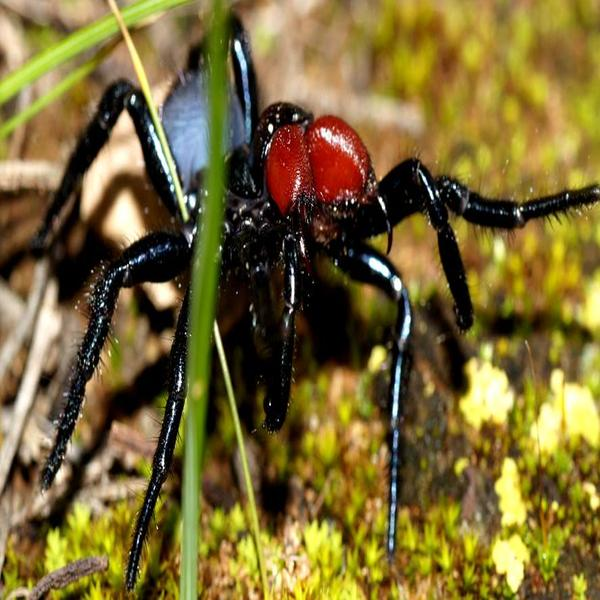Red Headed Mouse Spider: (50, 17, 512, 547)
